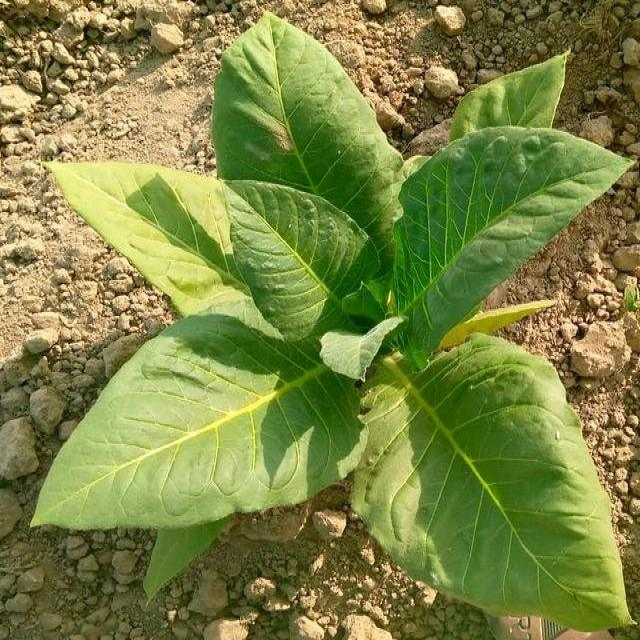crop: (23, 12, 639, 640)
